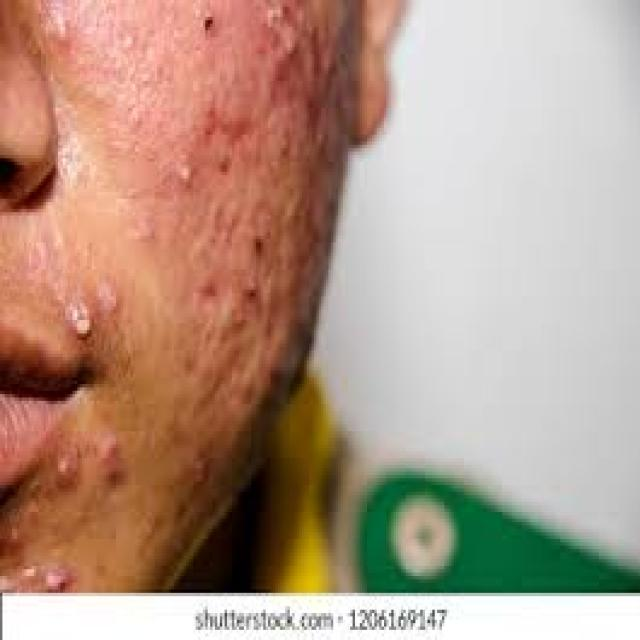Acne: (143, 6, 321, 396), (34, 269, 146, 595)
